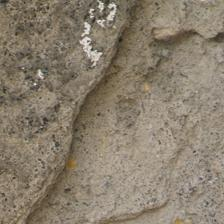Crack: (13, 2, 130, 218)
